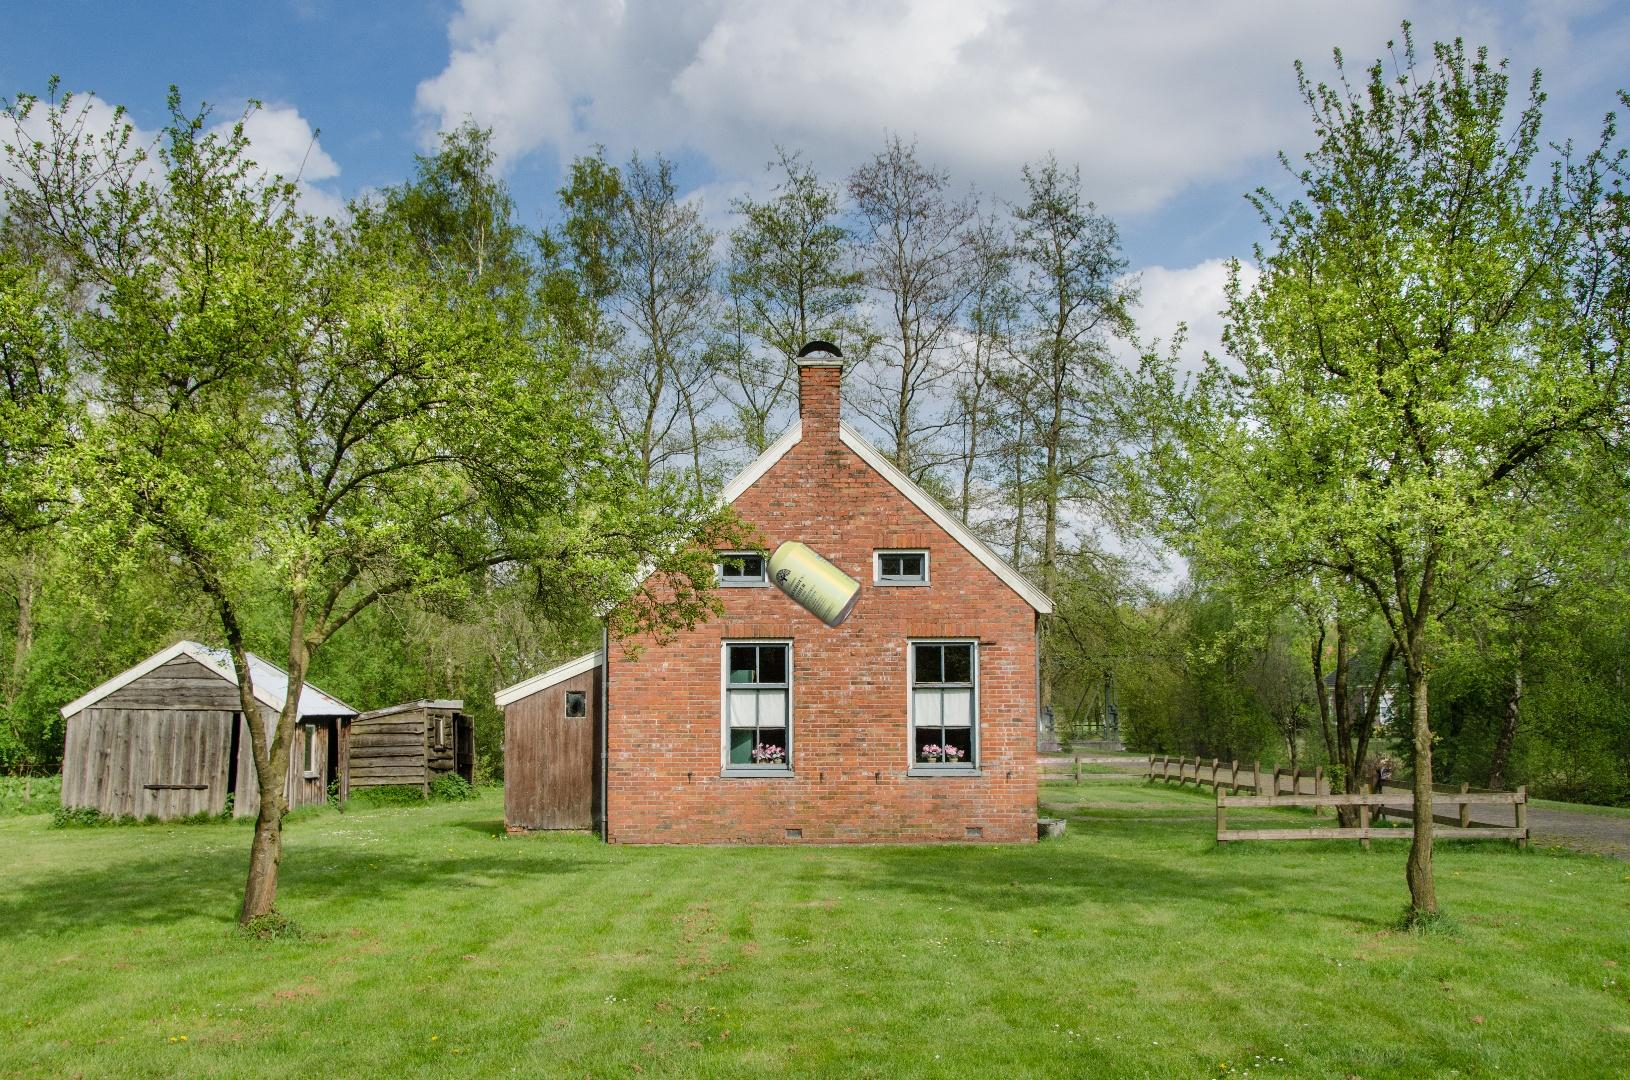metal-cans: (761, 533, 866, 632)
plastic-bag: (772, 1079, 892, 1080)
